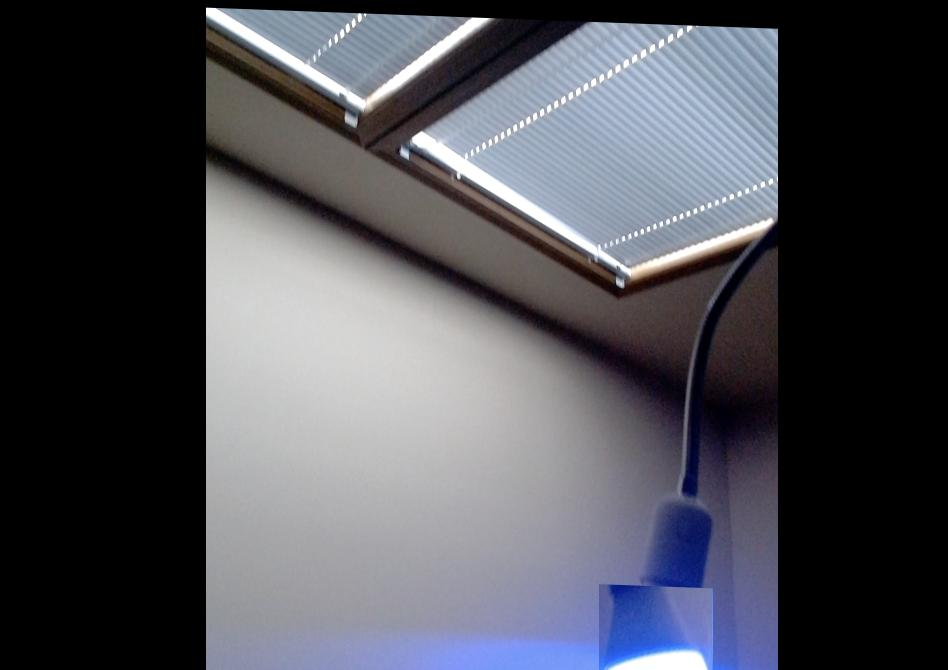TubeLight: (598, 579, 712, 670)
